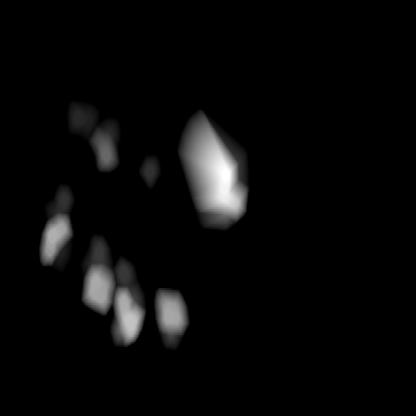fingers: (181, 113, 246, 222)
palm: (40, 187, 186, 345)
